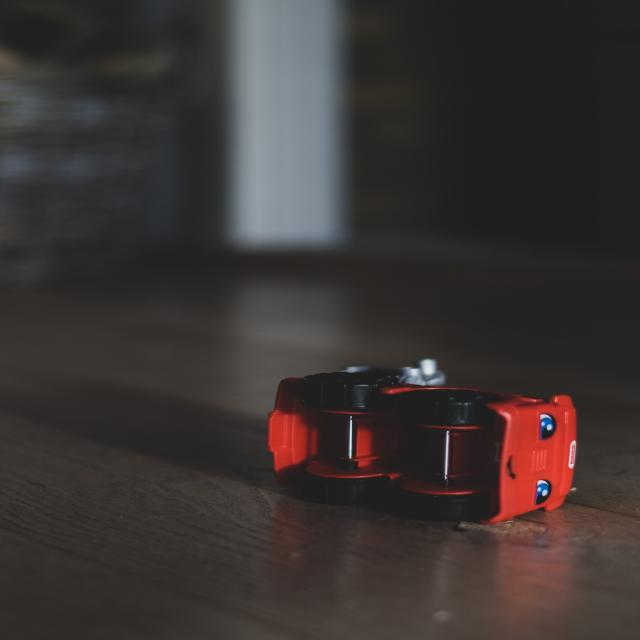Plastic: (160, 294, 612, 565)
